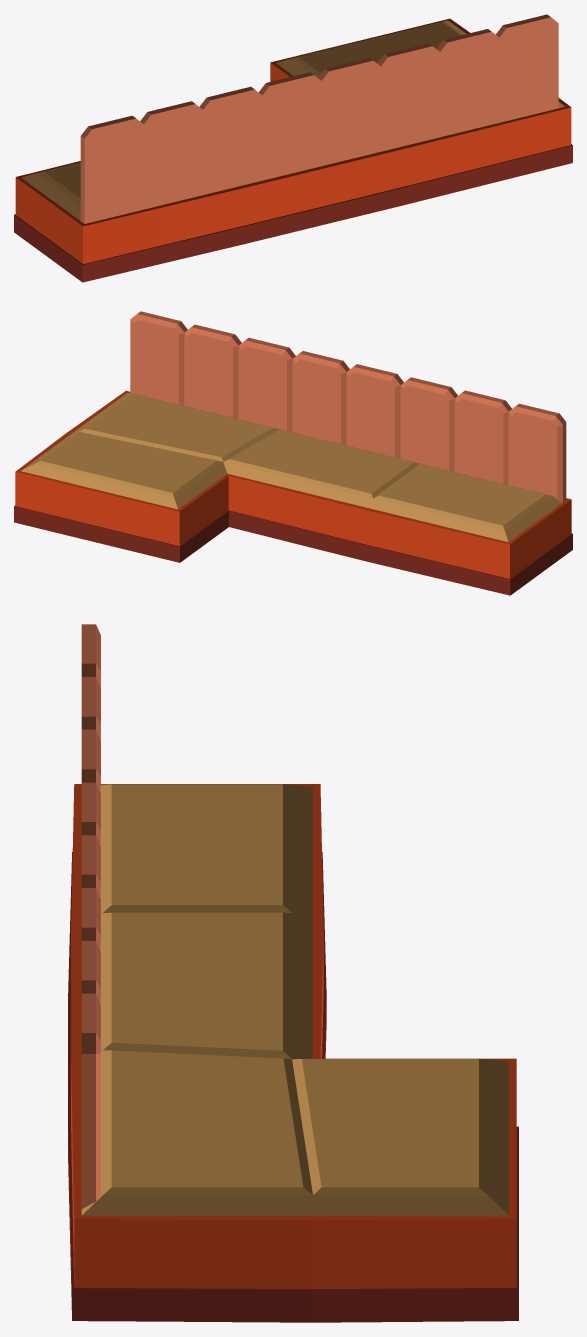
Rendered from Sofa 5.fbx.
3 views of the same model, one above another, from view 1: azimuth 30°, elevation 25°; view 2: azimuth 150°, elevation 25°; view 3: azimuth 270°, elevation 25° (orthographic). The views are drawn at different scales.
Visible parts, largest first — view 1: Sofa; view 2: Sofa; view 3: Sofa.
Boxes of the visible parts, x1,y1,x2,y2 form: Sofa: (14,14,572,282); Sofa: (14,311,572,595); Sofa: (68,624,518,1322).
Size of the model in its own units: 1.69 by 1.12 by 3.88.
